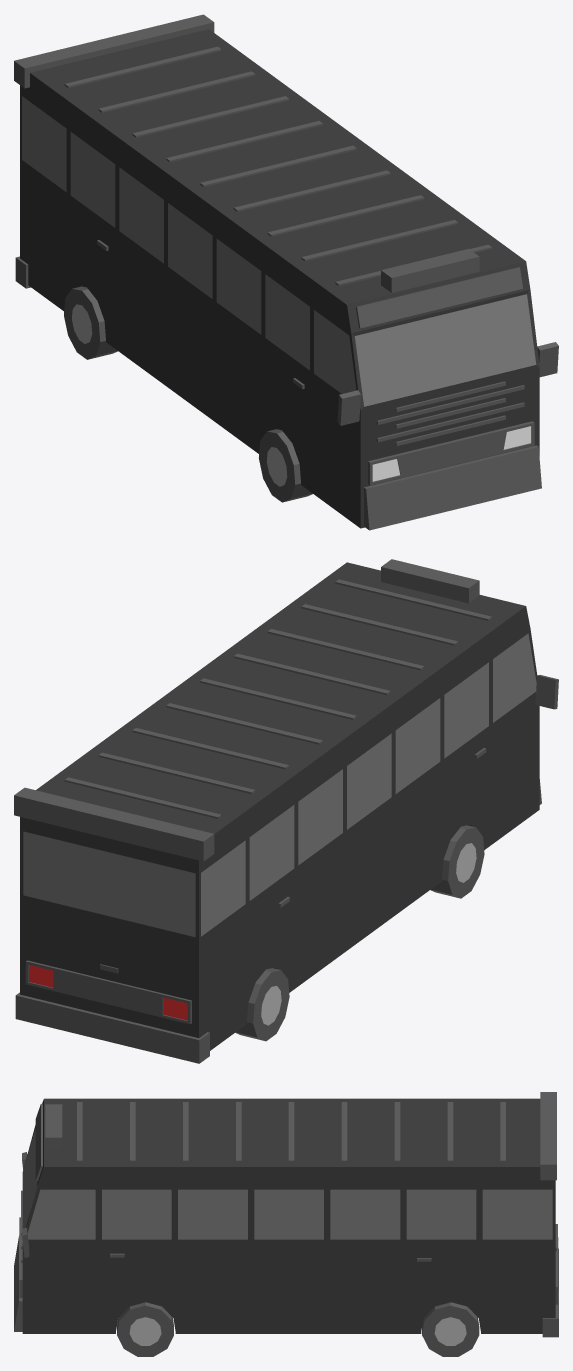
File: SM_Bus_01_04.FBX
3 views of the same model, one above another, from view 1: azimuth 30°, elevation 25°; view 2: azimuth 150°, elevation 25°; view 3: azimuth 270°, elevation 25° (orthographic). The views are drawn at different scales.
Visible parts, largest first — view 1: SM_Bus_01_04, SM_Wheel_LFront001, SM_Wheel_RBack001; view 2: SM_Bus_01_04, SM_Wheel_RBack001, SM_Wheel_LFront001; view 3: SM_Bus_01_04, SM_Wheel_LBack001, SM_Wheel_LFront002.
Part boxes in pixels (x1,y1,x2,y2): SM_Bus_01_04: (14, 14, 558, 530); SM_Wheel_LFront001: (259, 429, 312, 502); SM_Wheel_RBack001: (64, 286, 117, 359); SM_Bus_01_04: (14, 559, 558, 1063); SM_Wheel_RBack001: (235, 968, 289, 1041); SM_Wheel_LFront001: (430, 825, 484, 898); SM_Bus_01_04: (14, 1092, 558, 1337); SM_Wheel_LBack001: (422, 1302, 479, 1356); SM_Wheel_LFront002: (117, 1302, 173, 1356).
Bounding box in the file's own units: 1.7 × 1.91 × 4.73.
1 material, 1 textured.
